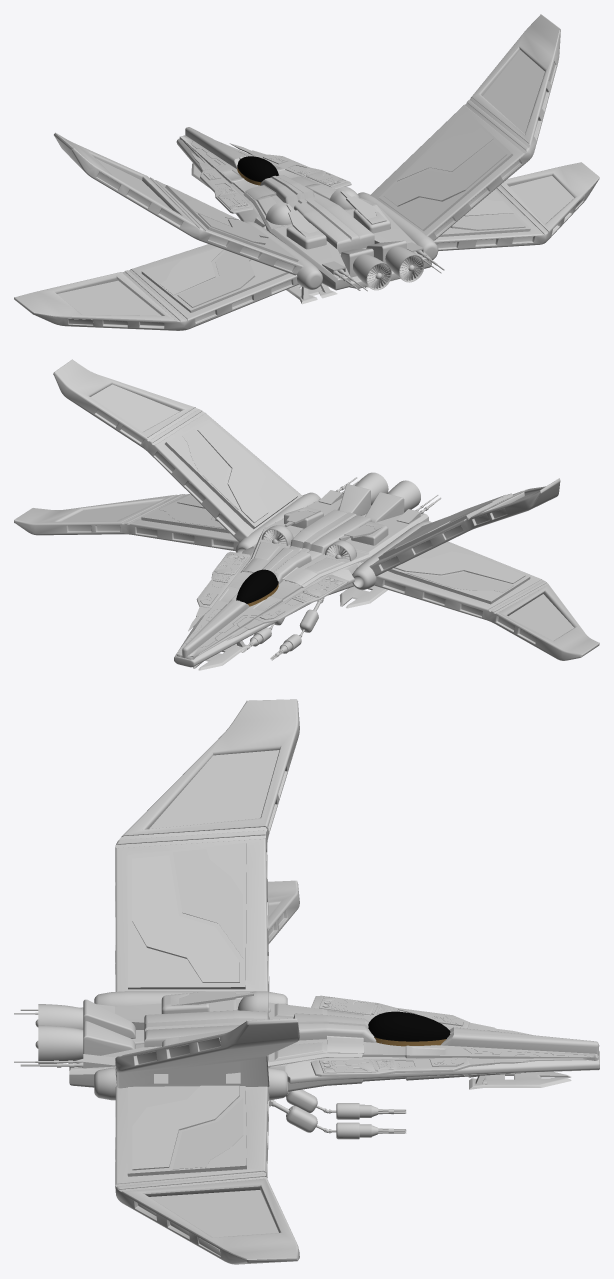
Rendered from Spaceship_Fixed2.fbx.
3 renders of one model, top to bottom at view 1: azimuth 30°, elevation 25°; view 2: azimuth 150°, elevation 25°; view 3: azimuth 270°, elevation 25°, orthographic. The views are drawn at different scales.
Visible parts, largest first — view 1: wing_Baked, wing.001_Baked, Base_spaceship_Baked, cockpit_Baked; view 2: wing_Baked, Base_spaceship_Baked, wing.001_Baked, guns_Baked, cockpit_Baked; view 3: wing.001_Baked, wing_Baked, Base_spaceship_Baked, guns_Baked, cockpit_Baked.
Boxes of the visible parts, bbox=[...] form: wing_Baked: bbox=[358, 14, 599, 259]; wing.001_Baked: bbox=[14, 132, 322, 330]; Base_spaceship_Baked: bbox=[176, 127, 444, 304]; cockpit_Baked: bbox=[237, 156, 278, 185]; wing_Baked: bbox=[14, 359, 320, 553]; Base_spaceship_Baked: bbox=[174, 472, 441, 670]; wing.001_Baked: bbox=[352, 478, 599, 660]; guns_Baked: bbox=[241, 598, 324, 660]; cockpit_Baked: bbox=[236, 569, 278, 606]; wing.001_Baked: bbox=[94, 699, 299, 1006]; wing_Baked: bbox=[94, 1018, 299, 1264]; Base_spaceship_Baked: bbox=[14, 991, 599, 1091]; guns_Baked: bbox=[269, 1089, 406, 1139]; cockpit_Baked: bbox=[368, 1011, 450, 1046].
Bounding box in the file's own units: 5290 × 1779 × 3510.
